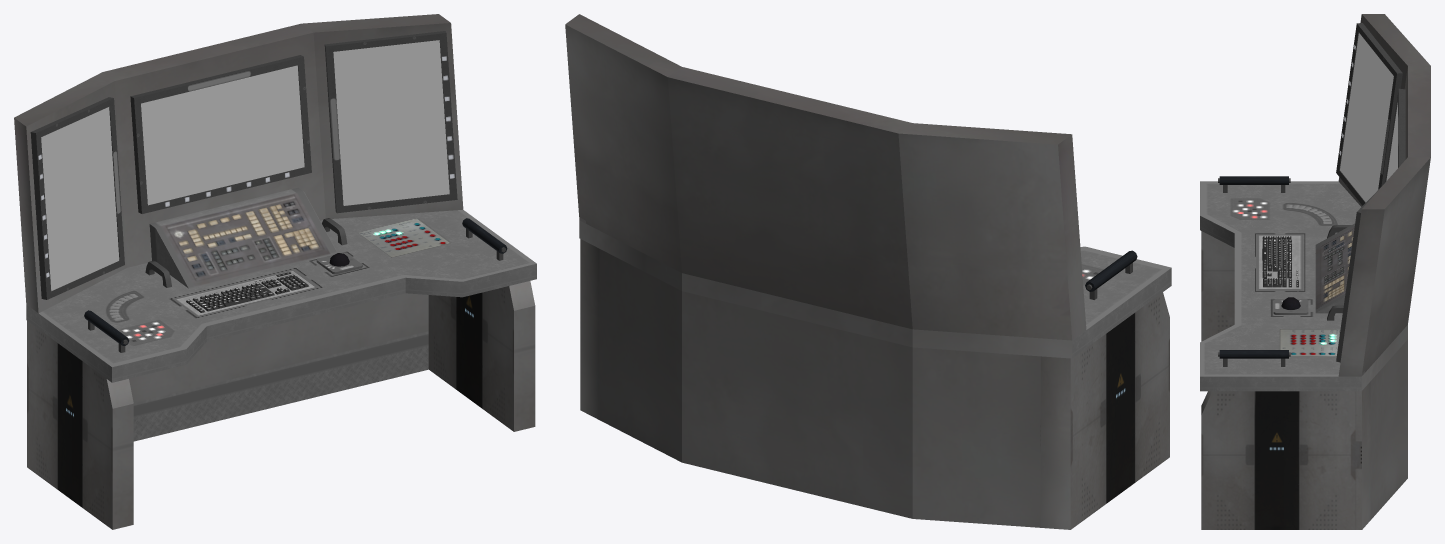
Rendered from CIC_Table.fbx.
3 renders of one model, left to right at view 1: azimuth 30°, elevation 25°; view 2: azimuth 150°, elevation 25°; view 3: azimuth 270°, elevation 25°, orthographic. The views are drawn at different scales.
Parts seen in each view (by area): view 1: CIC_Table, CIC_TableMonitor_Front1; view 2: CIC_Table; view 3: CIC_Table, CIC_TableMonitor_Front1.
Boxes of the visible parts, left/top/right/bottom form: CIC_Table: left=14, top=14, right=536, bottom=529; CIC_TableMonitor_Front1: left=30, top=31, right=457, bottom=299; CIC_Table: left=565, top=14, right=1171, bottom=529; CIC_Table: left=1200, top=14, right=1430, bottom=529; CIC_TableMonitor_Front1: left=1336, top=23, right=1405, bottom=362.
Size of the model in its own units: 2 by 1.54 by 1.
